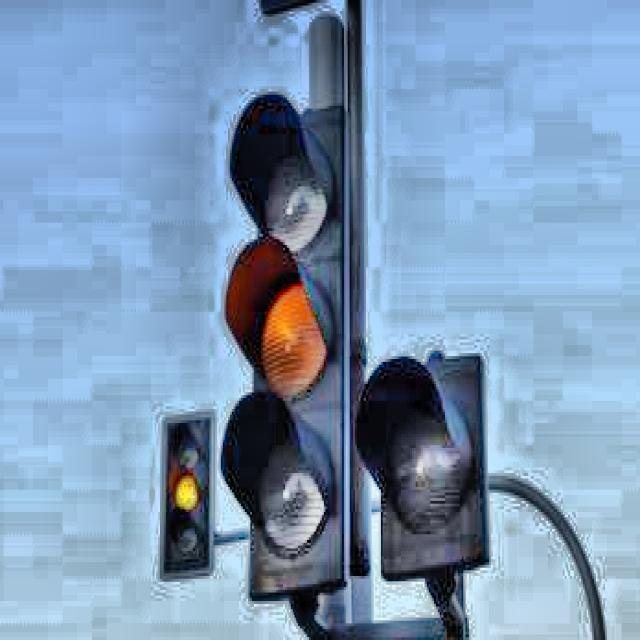yellow: (240, 105, 344, 582), (168, 425, 208, 568)
